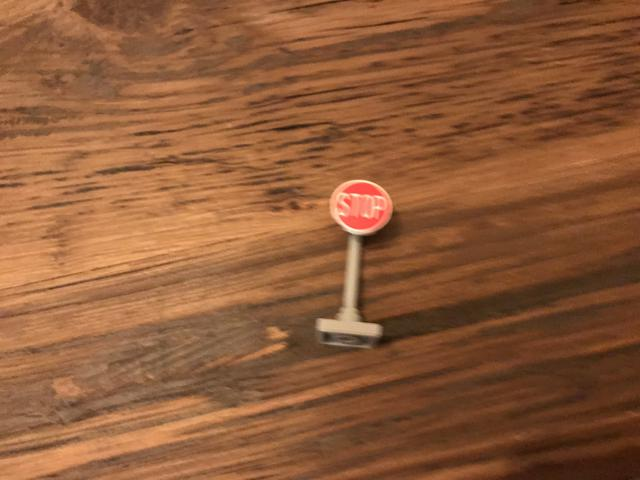stop: (331, 178, 394, 237)
